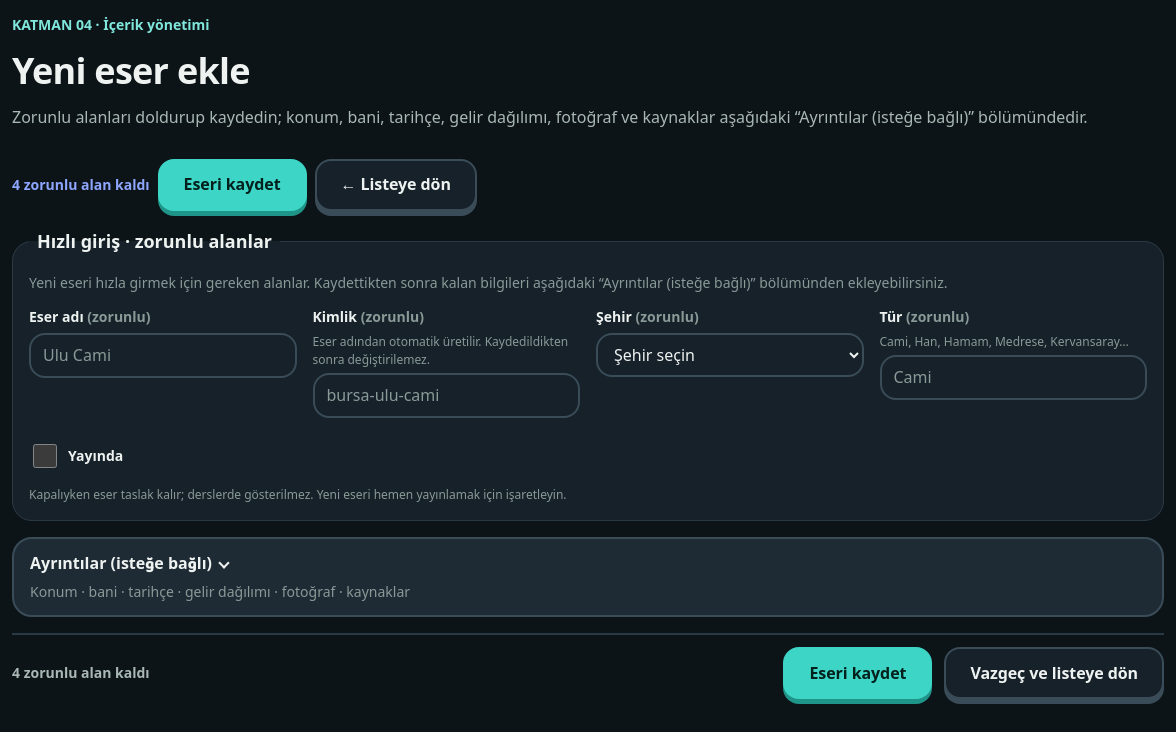
Test: EserFormu — hızlı giriş düzeni › ayrıntılar açılınca isteğe bağlı alanlar görünür olur, tekrar kapanır
Click the button "Ayrıntılar (isteğe bağlı)": {"x": 121, "y": 563} [12,537,1164,617]
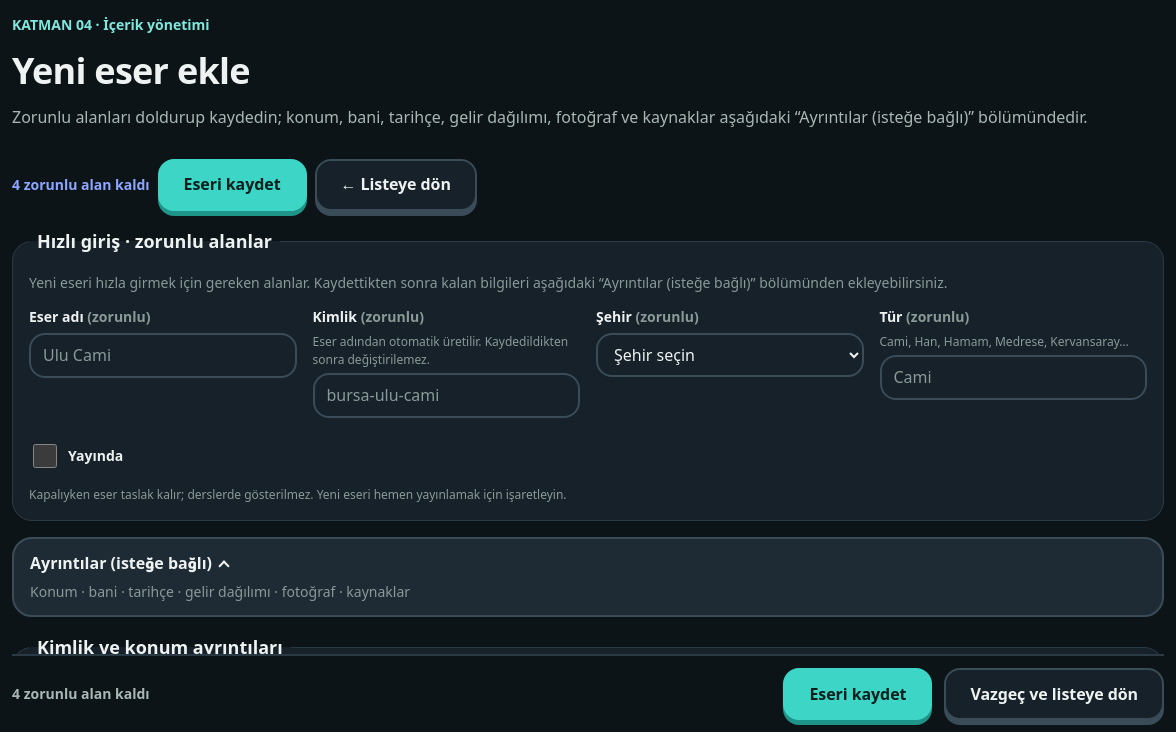
expect the button "Ayrıntılar (isteğe bağlı)" is expanded: met
Click the button "Ayrıntılar (isteğe bağlı)": {"x": 121, "y": 563} [12,537,1164,617]
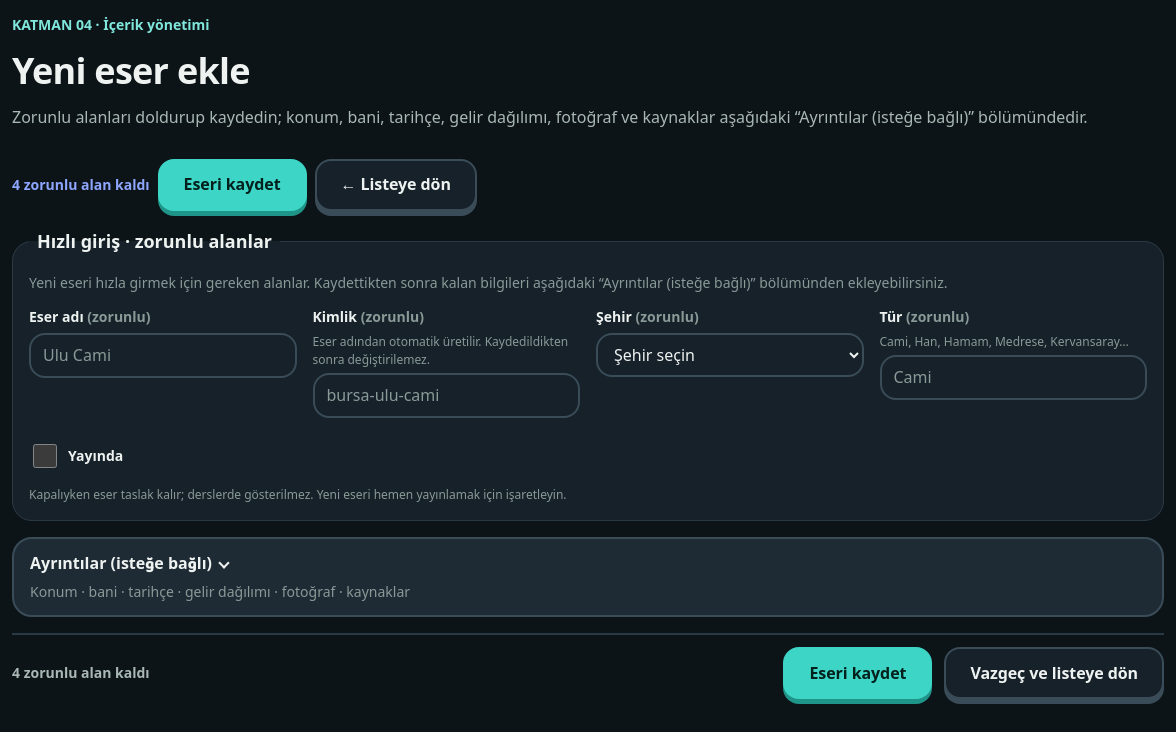
expect the button "Ayrıntılar (isteğe bağlı)" is collapsed: met, box [12,537,1164,617]
